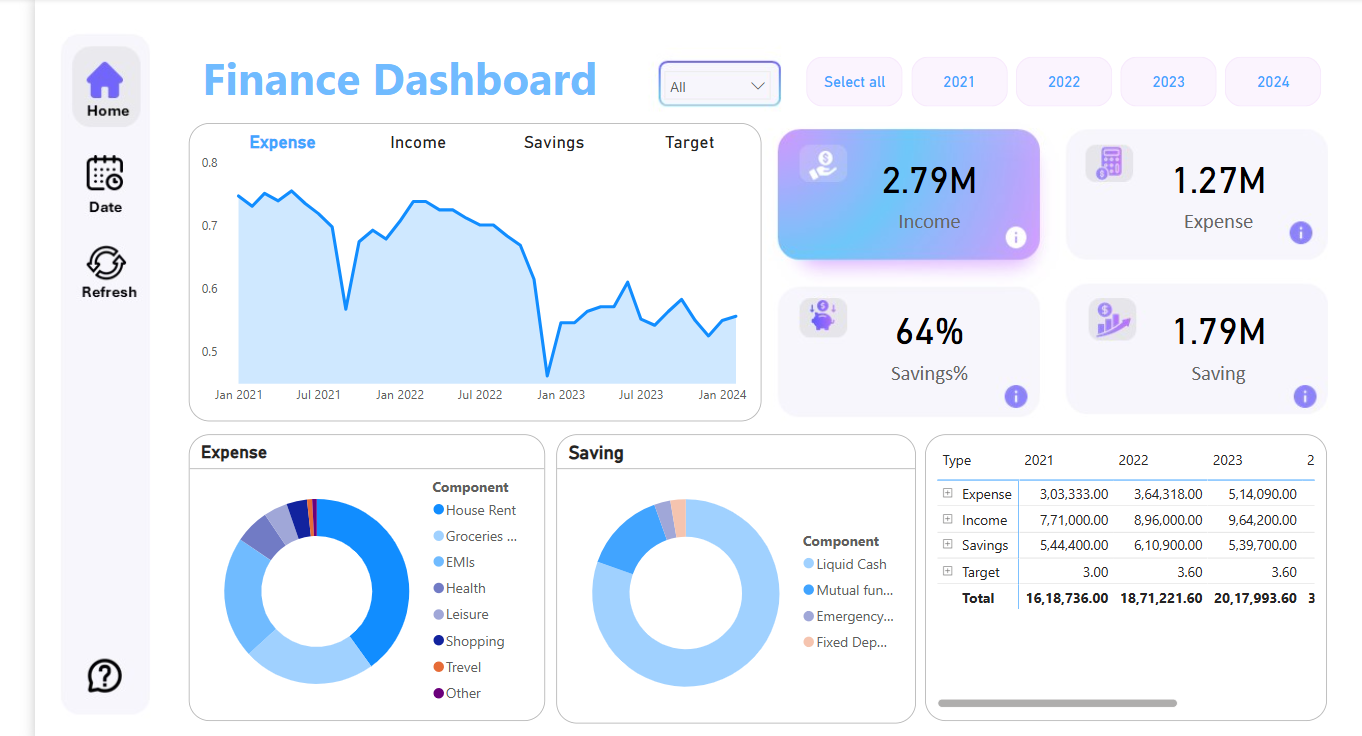

What the dashboard file says about the page in this screenshot:
{"tool":"powerbi","page":{"name":"DashBoard","canvas":[1280,720],"ordinal":0},"visuals":[{"type":"cardVisual","fields":{"Data":["FinData.Income","FinData.Expense","FinData.Savings%","FinData.Saving"]},"box":[725.9,121,554.3,287.7],"z":0},{"type":"advancedSlicerVisual","fields":{"Values":["FinData.Year"]},"box":[740,52,507,58],"z":1000},{"type":"slicer","fields":{"Values":["FinData.Month-Yr"]},"box":[596.9,60.8,123.1,40.8],"z":2000},{"type":"donutChart","title":"Expense","fields":{"Y":["FinData.Expense"],"Category":["FinData.Component"]},"box":[148.5,420.6,344.1,276.5],"z":3000},{"type":"donutChart","title":"Saving","fields":{"Category":["FinData.Component"],"Y":["FinData.Saving"]},"box":[502.9,420.6,347.1,279.4],"z":4000},{"type":"pivotTable","fields":{"Rows":["FinData.Type","FinData.Component"],"Values":["Sum(FinData.Value)"],"Columns":["FinData.Year"]},"box":[858.8,420.6,388.2,276.5],"z":5000},{"type":"lineChart","fields":{"Category":["FinData.Date.Variation.Date Hierarchy.Year","FinData.Date.Variation.Date Hierarchy.Quarter","FinData.Date.Variation.Date Hierarchy.Month"],"Y":["FinData.Line_Chart_Measures"]},"box":[148.1,121,553.1,287.7],"z":6000},{"type":"advancedSlicerVisual","fields":{"Values":["Line Selected Table.Type"]},"box":[172.8,121,528.4,35.8],"z":7000},{"type":"textbox","box":[148.5,42.6,407.4,75],"z":8000},{"type":"actionButton","title":"Hide","box":[29.6,138.3,80.2,82.7],"z":9000},{"type":"actionButton","box":[29.6,225.9,80.2,79],"z":10001}]}

Visuals, with their boxes on the page's 1280x720 design canvas (x1, y1, x2, y2). These are canvas units, not pixel positions in the 1362x736 screenshot, which may show the page scaled, cropped or inside an application window:
cardVisual - FinData.Income x FinData.Expense: BBox(726, 121, 1280, 409)
advancedSlicerVisual - FinData.Year: BBox(740, 52, 1247, 110)
slicer - FinData.Month-Yr: BBox(597, 61, 720, 102)
"Expense" donutChart: BBox(148, 421, 493, 697)
"Saving" donutChart: BBox(503, 421, 850, 700)
pivotTable - FinData.Type x FinData.Component: BBox(859, 421, 1247, 697)
lineChart - FinData.Date.Variation.Date Hierarchy.Year x FinData.Date.Variation.Date Hierarchy.Quarter: BBox(148, 121, 701, 409)
advancedSlicerVisual - Line Selected Table.Type: BBox(173, 121, 701, 157)
textbox: BBox(148, 43, 556, 118)
"Hide" actionButton: BBox(30, 138, 110, 221)
actionButton: BBox(30, 226, 110, 305)
